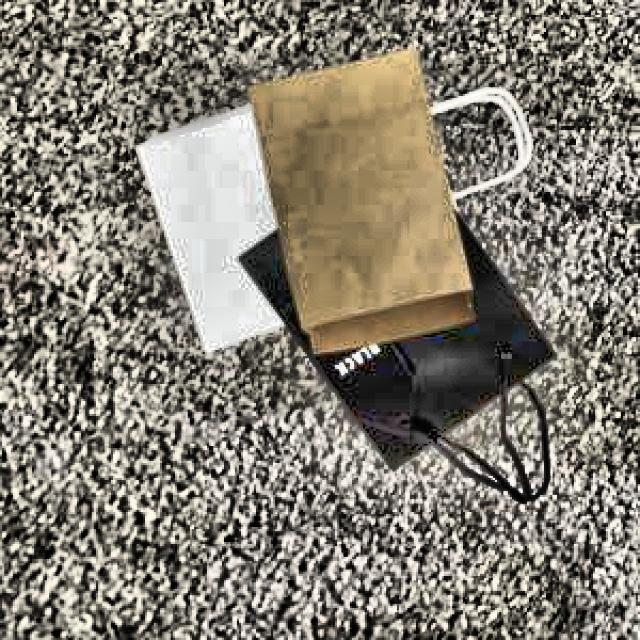Paper-bag: (135, 67, 559, 356), (247, 149, 562, 519), (240, 43, 488, 345)
